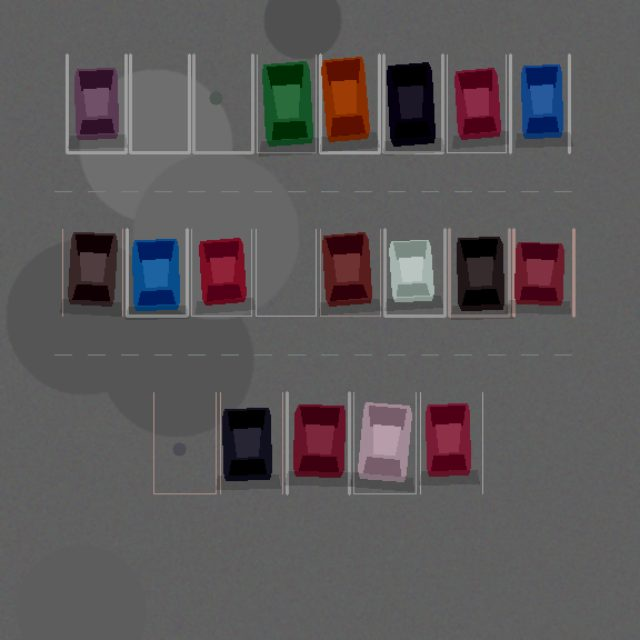space-empty: (153, 392, 216, 493), (130, 54, 189, 152), (193, 54, 252, 152), (256, 229, 316, 316)
space-occupied: (353, 392, 416, 493), (220, 392, 282, 493), (287, 392, 349, 493), (420, 392, 482, 493), (67, 54, 126, 152), (257, 54, 316, 152), (320, 54, 379, 152), (383, 54, 442, 152), (447, 54, 506, 152), (510, 54, 569, 152), (62, 229, 122, 316), (127, 229, 187, 316), (191, 229, 251, 316), (320, 229, 380, 316), (384, 229, 444, 316), (449, 229, 509, 316), (513, 229, 573, 316)
